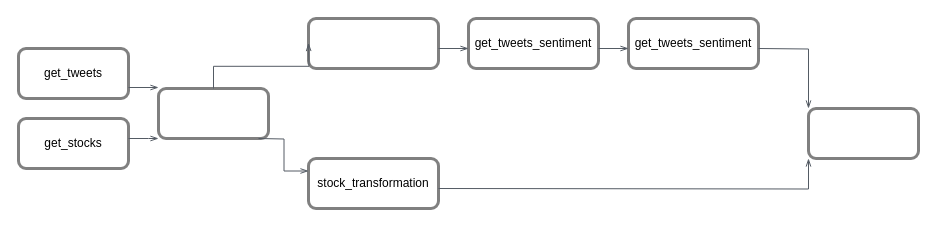
Some shapes in this 937 by 227 pixel diagram are drawn without their labels. Each missing label, with the centre of its shape:
"save_to_file" belongs at pixel 863 133.
"transformation" belongs at pixel 213 113.
"tweets_transformation" belongs at pixel 373 43.
